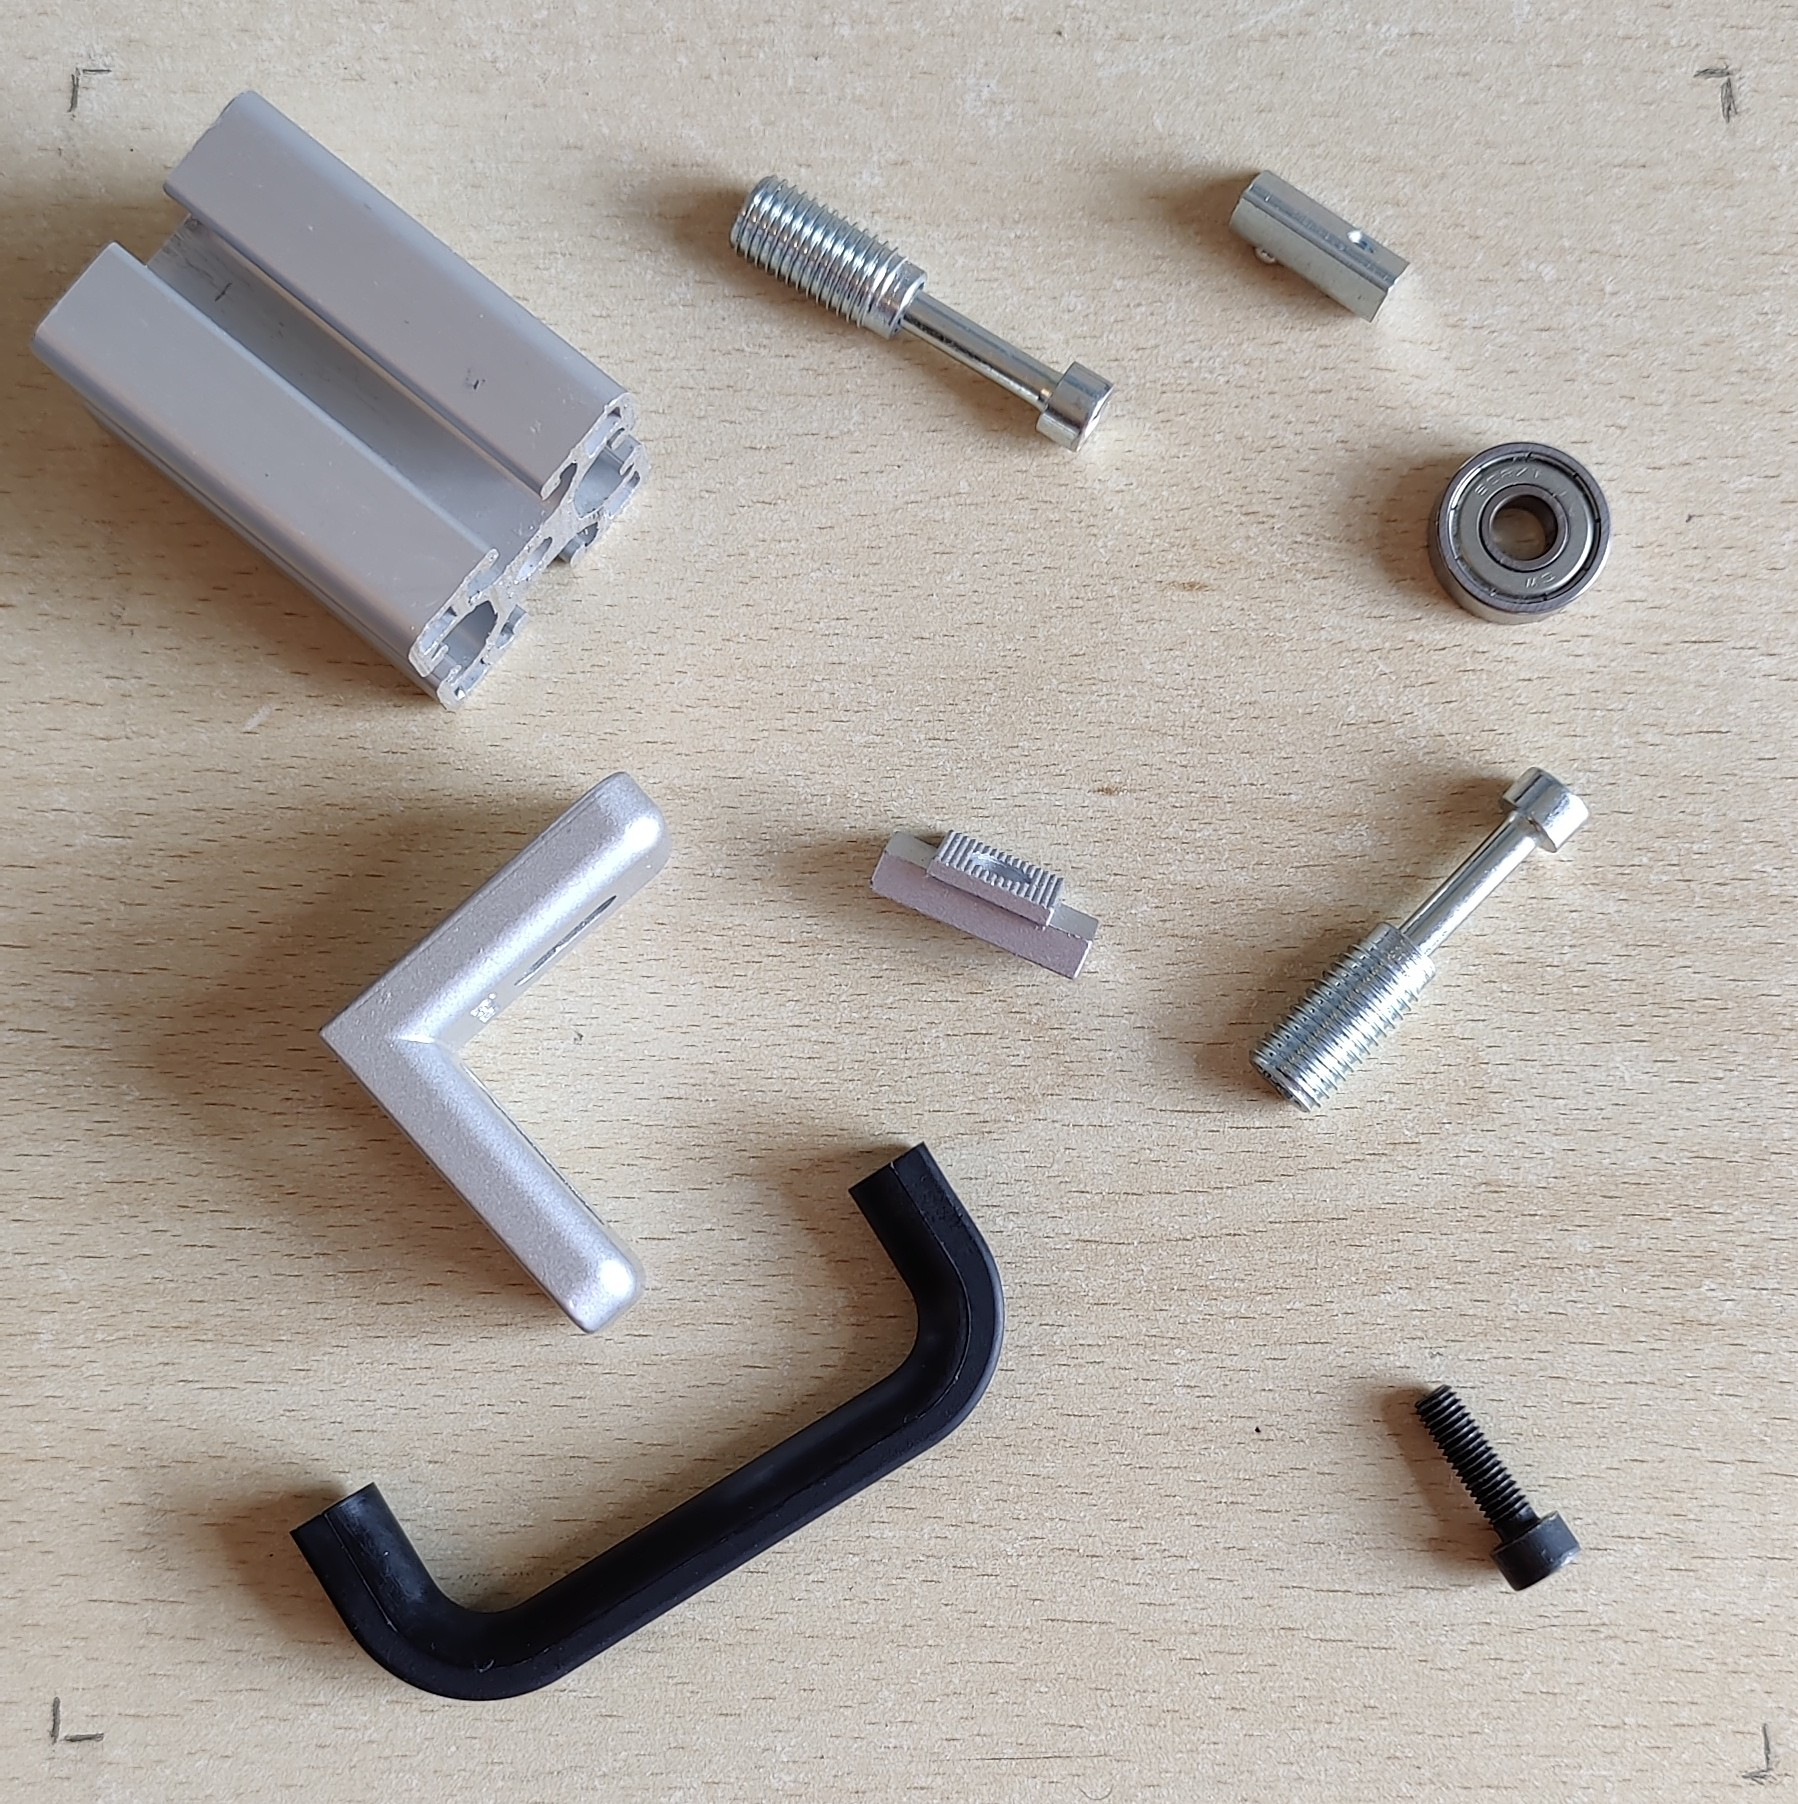Aluminium Extension: (28, 86, 652, 719)
Ball Bearing: (1424, 441, 1614, 629)
Multiwinkel: (314, 765, 673, 1340)
Pull Handle: (291, 1141, 1008, 1704)
Shoulder Socket Head Cap Screw: (1245, 769, 1591, 1116), (724, 173, 1120, 458)
Socket Head Cap Screw: (1409, 1379, 1581, 1597)
T Nut Square: (868, 825, 1103, 986)
T Spring Nut: (1228, 166, 1414, 328)
